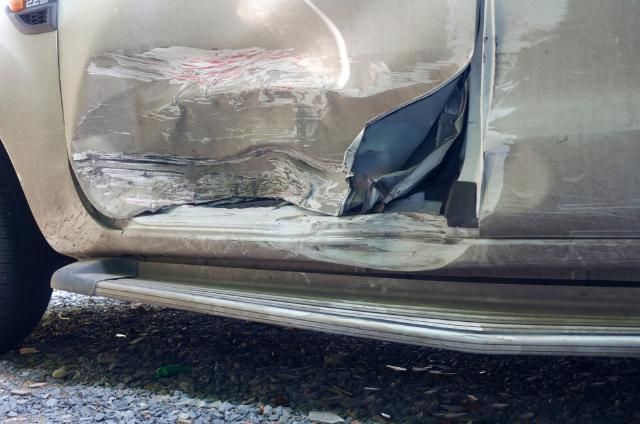dent: (71, 0, 354, 219), (304, 212, 478, 270), (481, 140, 551, 213)
scratch: (343, 0, 481, 101), (558, 193, 640, 235)
